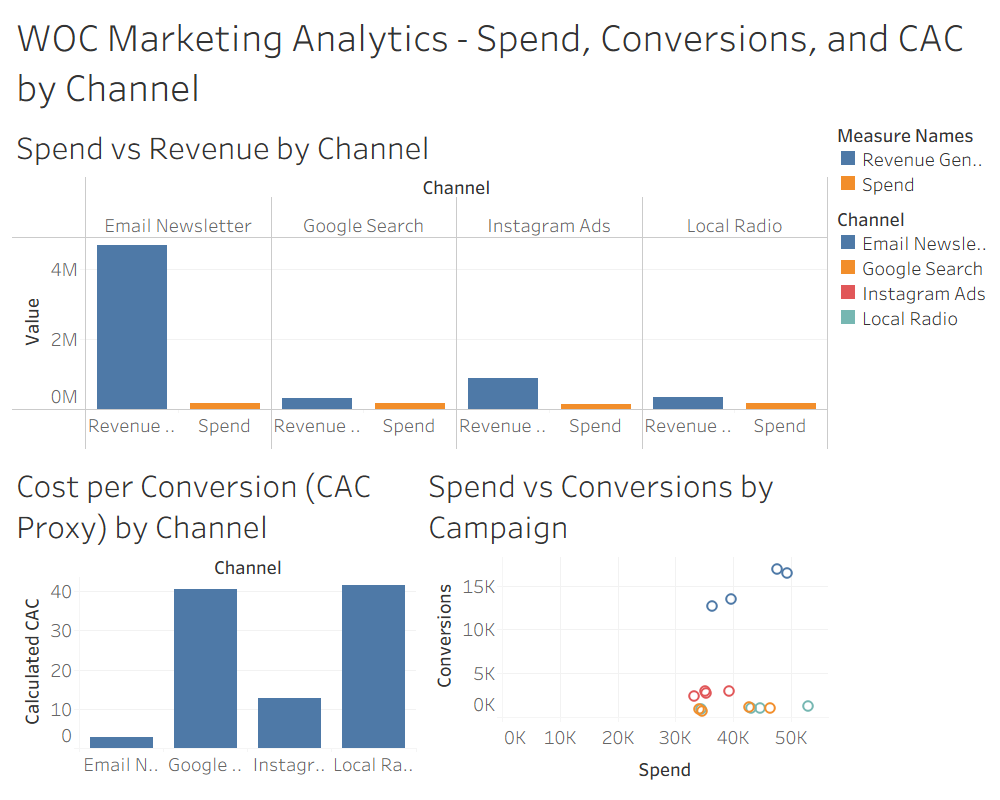

The page's visual inventory and layout, read from the dashboard file:
{"tool":"tableau","page":{"name":"Dashboard 1","canvas":[1000,800],"ordinal":0},"visuals":[{"type":"title","box":[8,8,984,108]},{"type":"worksheet","title":"Spend vs Revenue by Channel","mark":"Automatic","cols":["Channel"],"box":[8,116,824,338]},{"type":"legend","title":"Spend vs Revenue by Channel","param":"[federated.0unh4h315lozk81edm3k40if8yrx].[:Measure Names]","box":[832,116,160,84]},{"type":"legend","title":"Spend vs Conversions by Campaign","param":"[federated.0unh4h315lozk81edm3k40if8yrx].[none:Channel:nk]","box":[832,200,160,134]},{"type":"worksheet","title":"Cost per Conversion (CAC Proxy) by Channel","mark":"Automatic","rows":["Calculation_1543774433890304"],"cols":["Channel"],"box":[8,454,412,338]},{"type":"worksheet","title":"Spend vs Conversions by Campaign","mark":"Automatic","rows":["Conversions"],"cols":["Spend"],"box":[420,454,412,338]}]}

Visuals, with their boxes in screenshot pixels (x1, y1, x2, y2), scaled from the page's 1000x800 canvas onto the 1000x800 screenshot:
title: box=[8, 8, 992, 116]
"Spend vs Revenue by Channel" worksheet: box=[8, 116, 832, 454]
"Spend vs Revenue by Channel" legend: box=[832, 116, 992, 200]
"Spend vs Conversions by Campaign" legend: box=[832, 200, 992, 334]
"Cost per Conversion (CAC Proxy) by Channel" worksheet: box=[8, 454, 420, 792]
"Spend vs Conversions by Campaign" worksheet: box=[420, 454, 832, 792]
